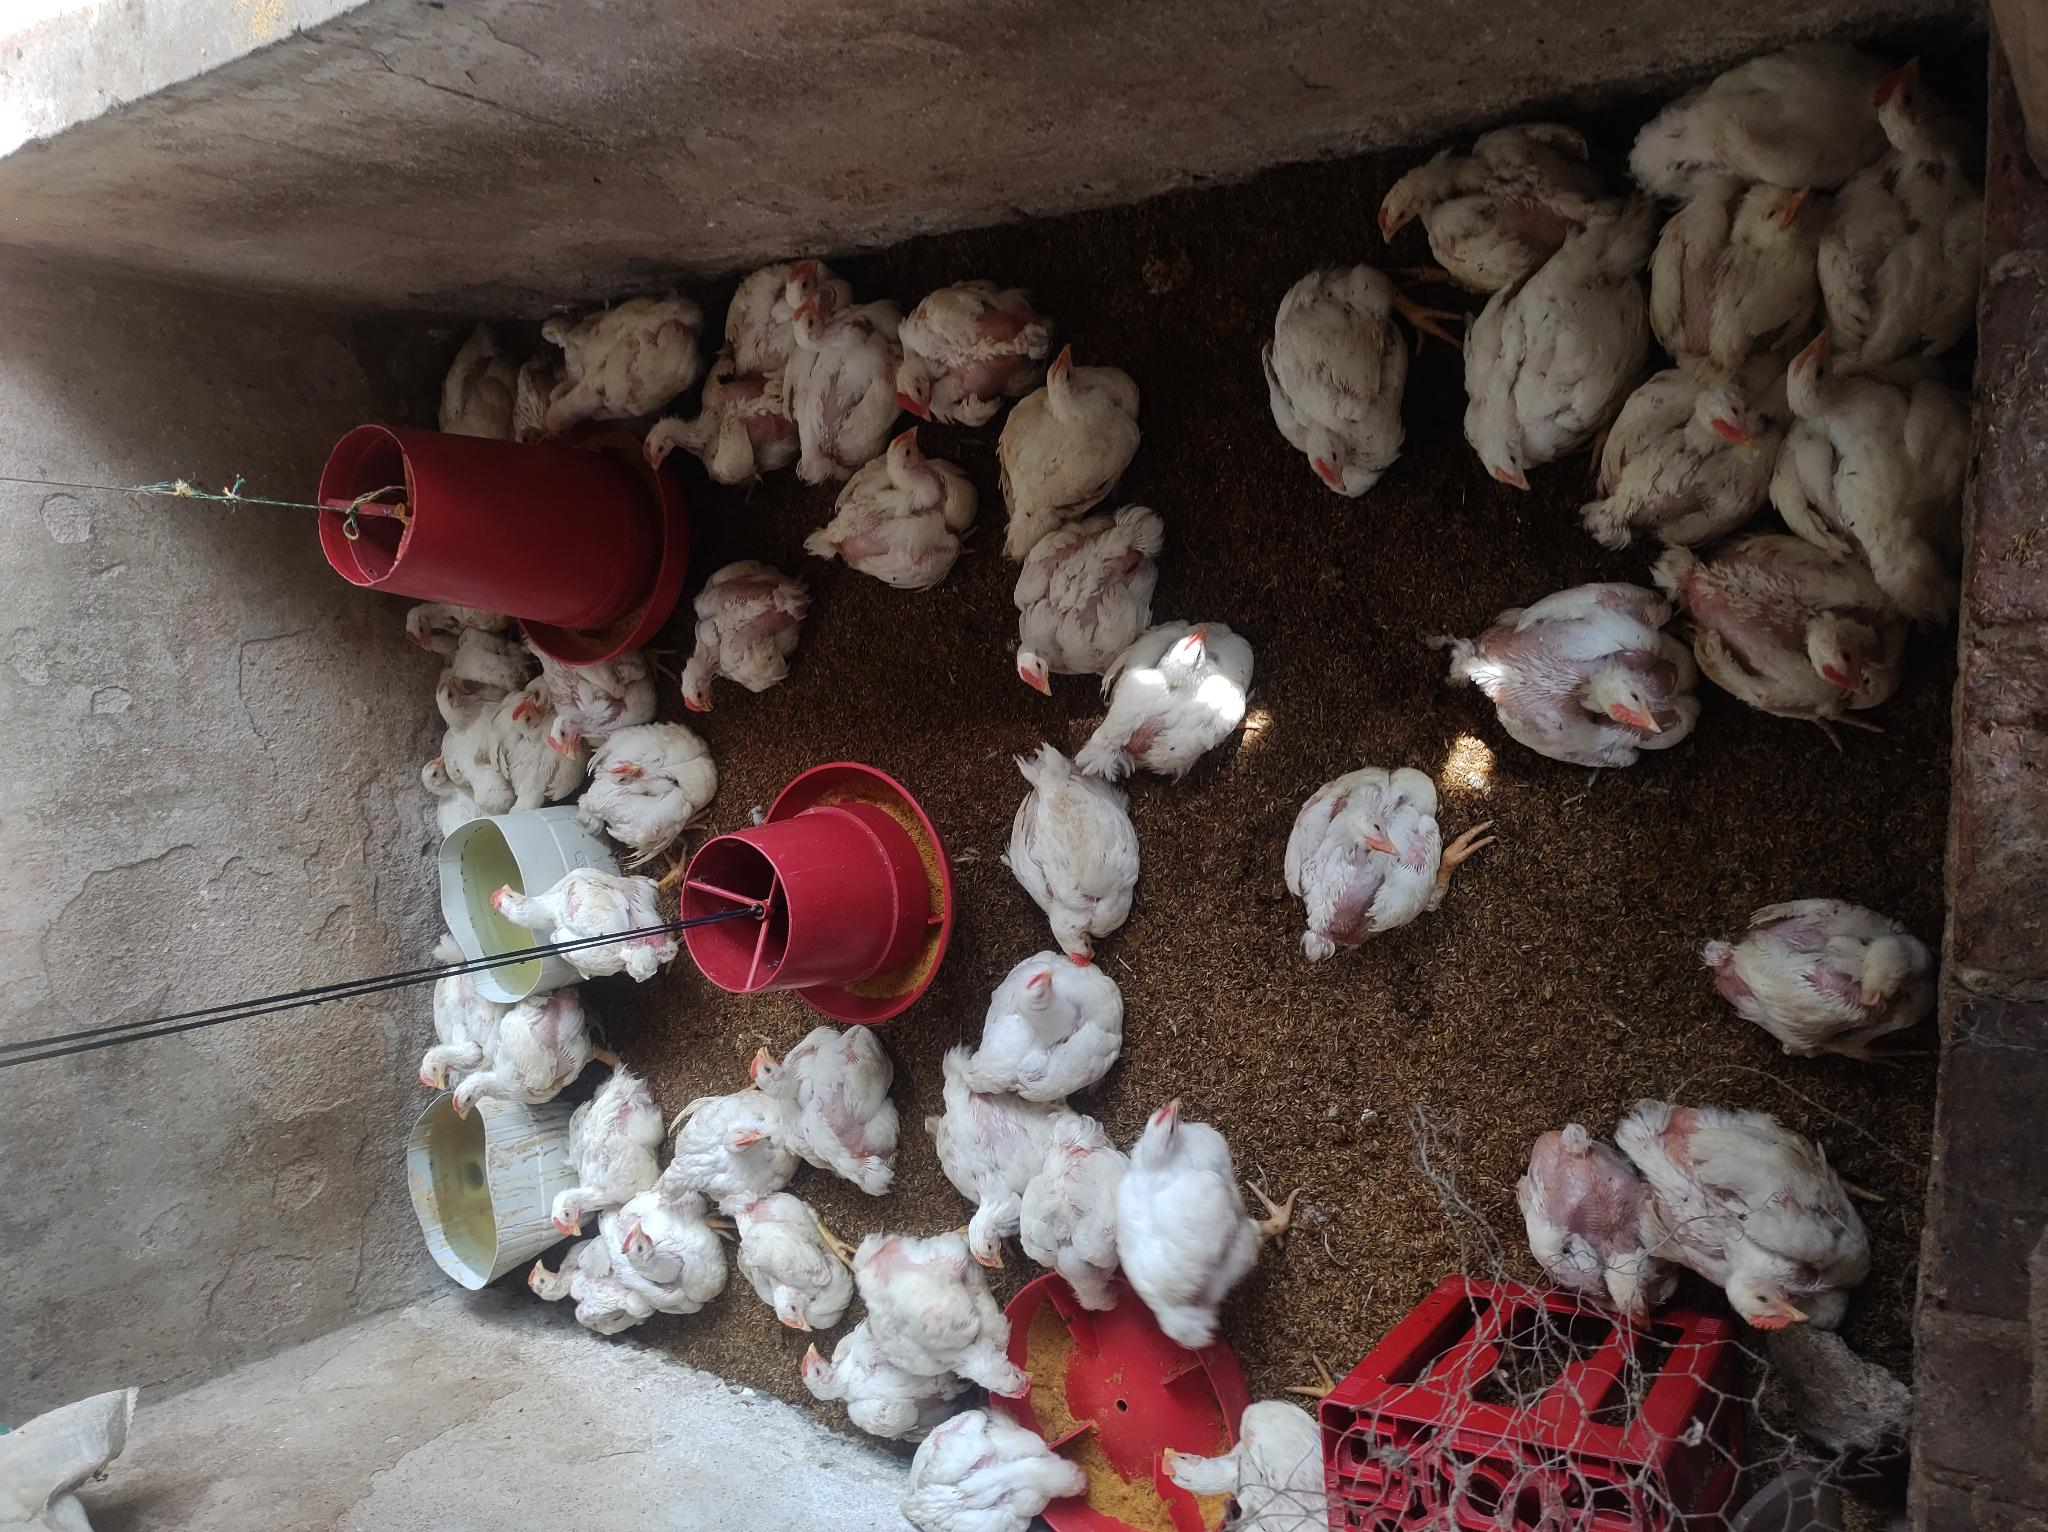Pollos: (1450, 209, 1654, 505), (1628, 1096, 1869, 1337), (1778, 320, 1960, 624), (1660, 526, 1905, 726), (1818, 72, 1984, 362), (1628, 23, 1898, 200), (1450, 584, 1705, 764), (1112, 1093, 1265, 1357), (1700, 895, 1926, 1065), (1588, 349, 1771, 555), (1252, 262, 1406, 504), (1374, 121, 1599, 280), (1647, 166, 1818, 369), (1273, 763, 1441, 966), (796, 430, 980, 607), (853, 1233, 1043, 1403), (1511, 1118, 1676, 1312), (935, 1044, 1068, 1278), (1007, 512, 1170, 697), (1076, 615, 1252, 780), (996, 348, 1145, 539), (1005, 756, 1137, 969), (745, 1020, 903, 1197), (1150, 1394, 1332, 1532), (533, 291, 697, 441), (1015, 1109, 1134, 1313), (967, 948, 1128, 1098), (894, 280, 1059, 426), (903, 1403, 1088, 1529), (450, 978, 594, 1135), (672, 549, 801, 719), (783, 294, 911, 467), (631, 356, 793, 486), (487, 867, 677, 978), (545, 1067, 655, 1246), (726, 1191, 856, 1337), (574, 726, 722, 853), (650, 1086, 788, 1213), (425, 663, 544, 803), (598, 1192, 726, 1323), (410, 940, 516, 1094), (796, 1316, 931, 1435), (533, 644, 656, 760), (523, 1221, 635, 1344), (721, 261, 849, 359), (433, 315, 521, 438), (504, 673, 579, 811), (399, 755, 491, 826), (396, 597, 516, 645)
